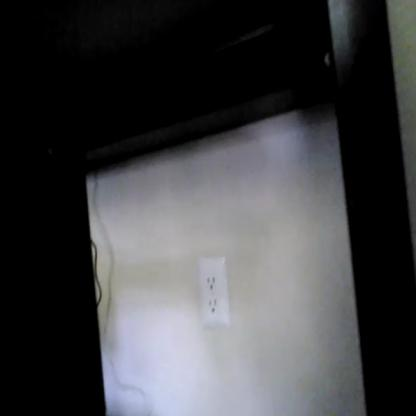OUTLET: (199, 257, 230, 326)
